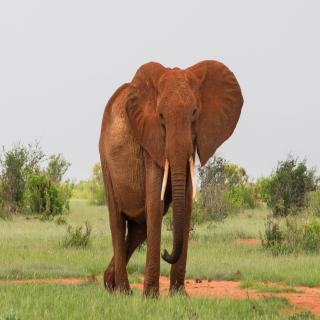Elephant: (91, 56, 254, 311)
